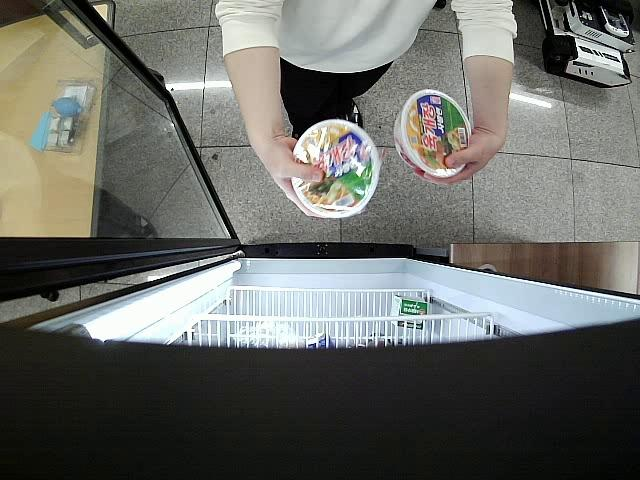00_hand: (410, 131, 497, 191), (269, 136, 327, 220)
09_yukGaeJang: (291, 119, 380, 219), (393, 89, 471, 179)
